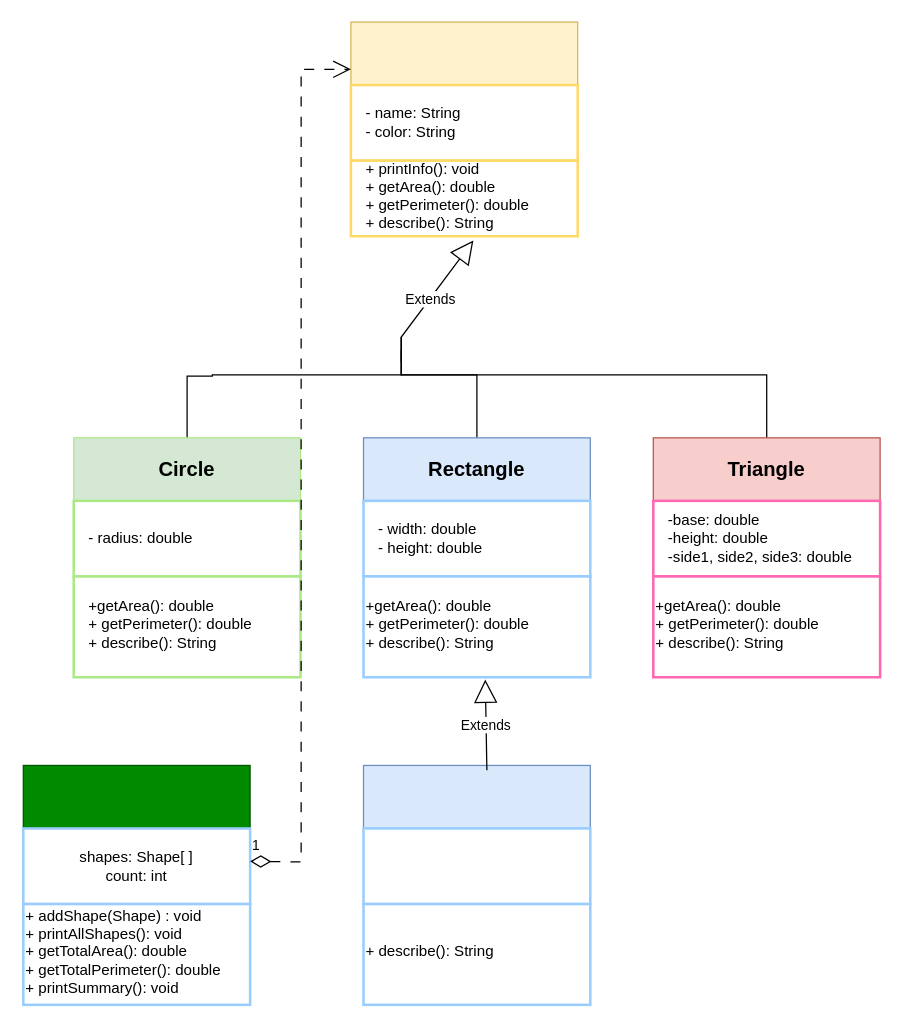
Some shapes in this 914 by 1028 pixel diagram are drawn without their labels. The shapes that lost their labels are listed below. From the top down, each one's centre as x and y in pixels, then its label:
[464,53]: Shape (부모 클래스)
[136,796]: ShapeCalculator
[476,796]: Square
